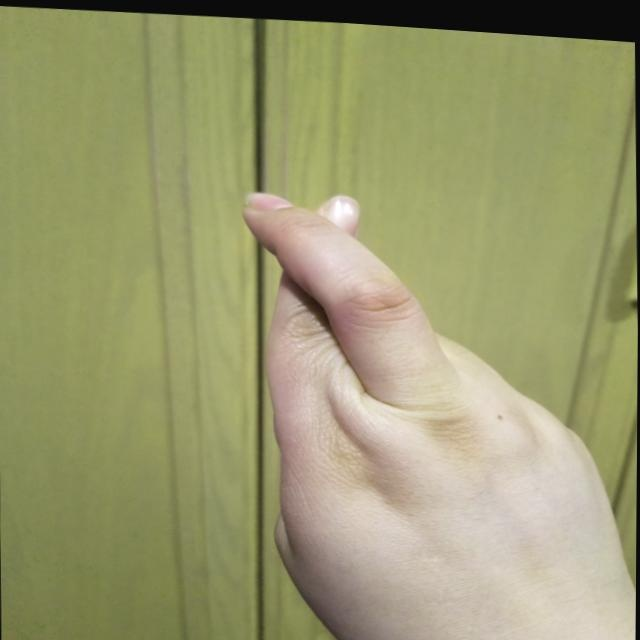R: (228, 172, 639, 639)
